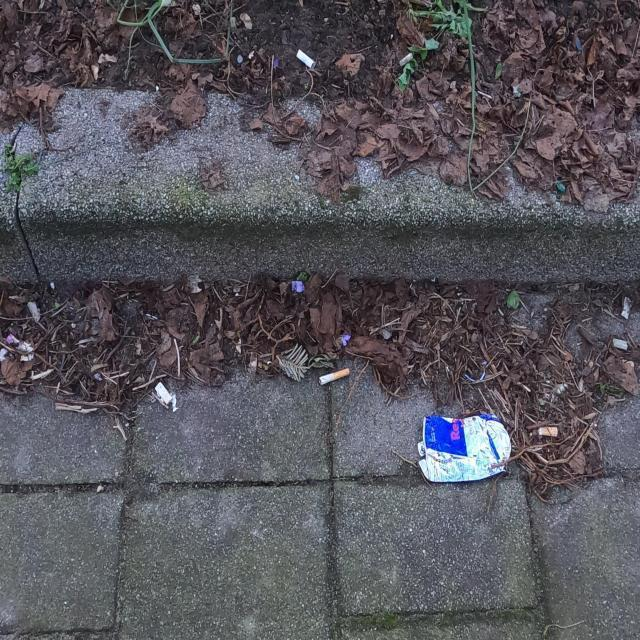Can-Metal: (414, 412, 512, 485)
